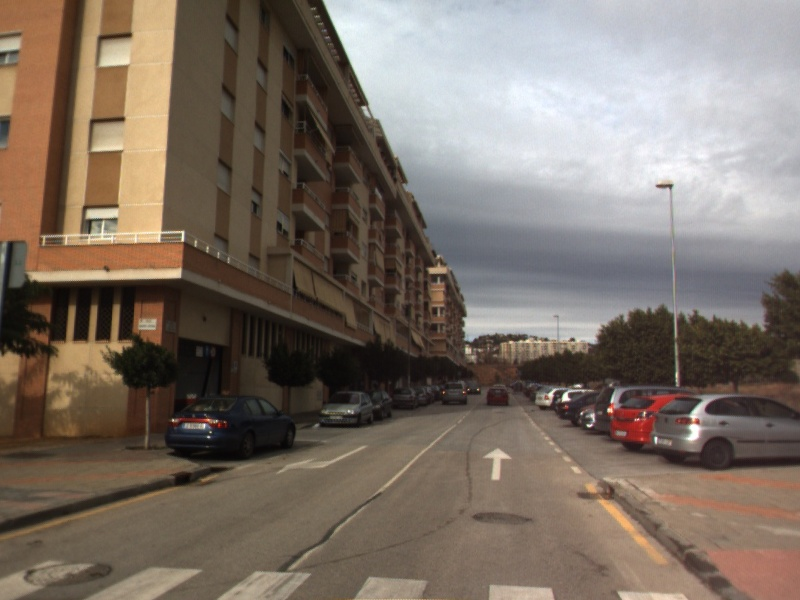STRAIGHT: (481, 446, 514, 482)
